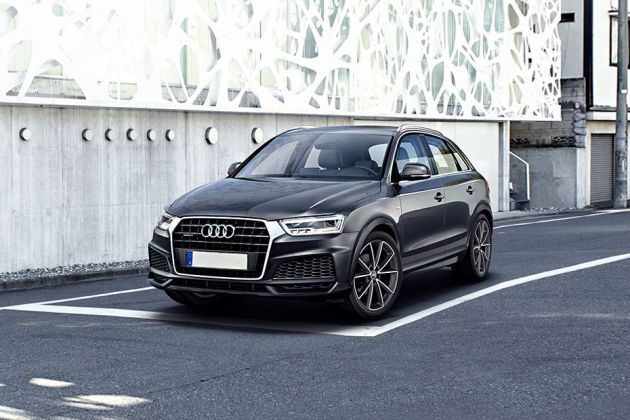audi: (143, 126, 495, 320)
